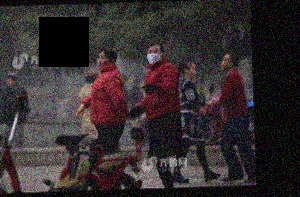with_mask: (145, 47, 162, 64)
without_mask: (95, 51, 110, 69), (219, 55, 230, 70), (187, 65, 198, 78)
